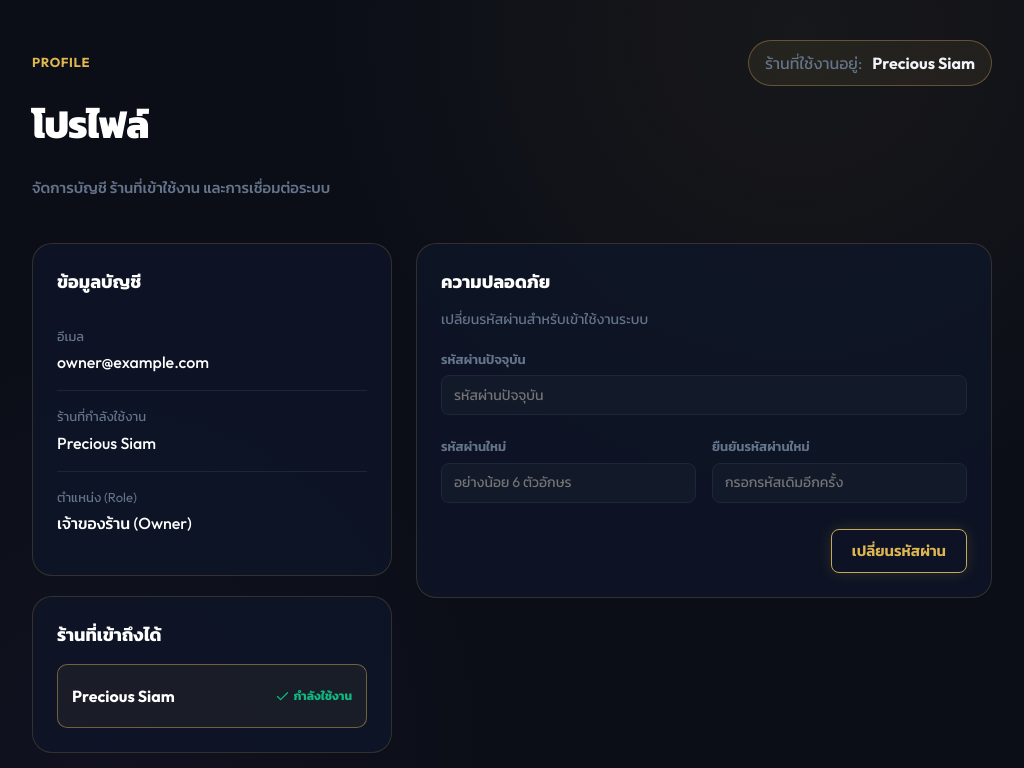
Test: ProfilePage › requires the current password before submitting
Step 1. Type "secret123" into the password field labelled "รหัสผ่านใหม่" → point(568, 483), box [441,463,696,503]
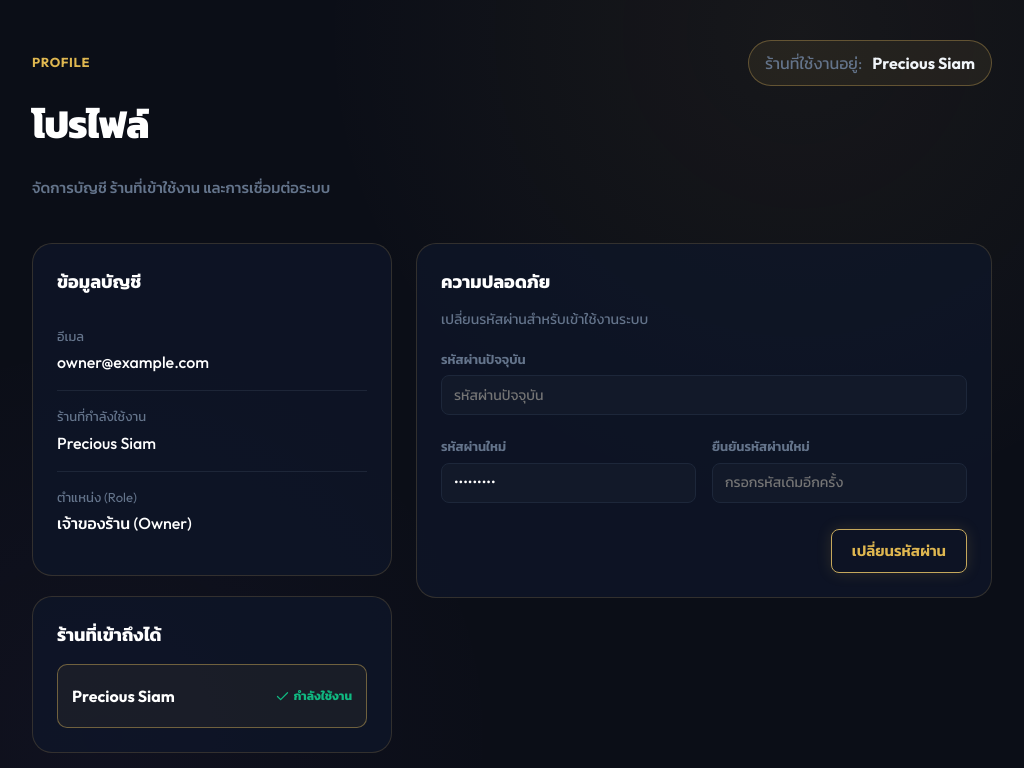
Step 2. Type "secret123" into the password field labelled "ยืนยันรหัสผ่านใหม่" → point(840, 483), box [712,463,967,503]
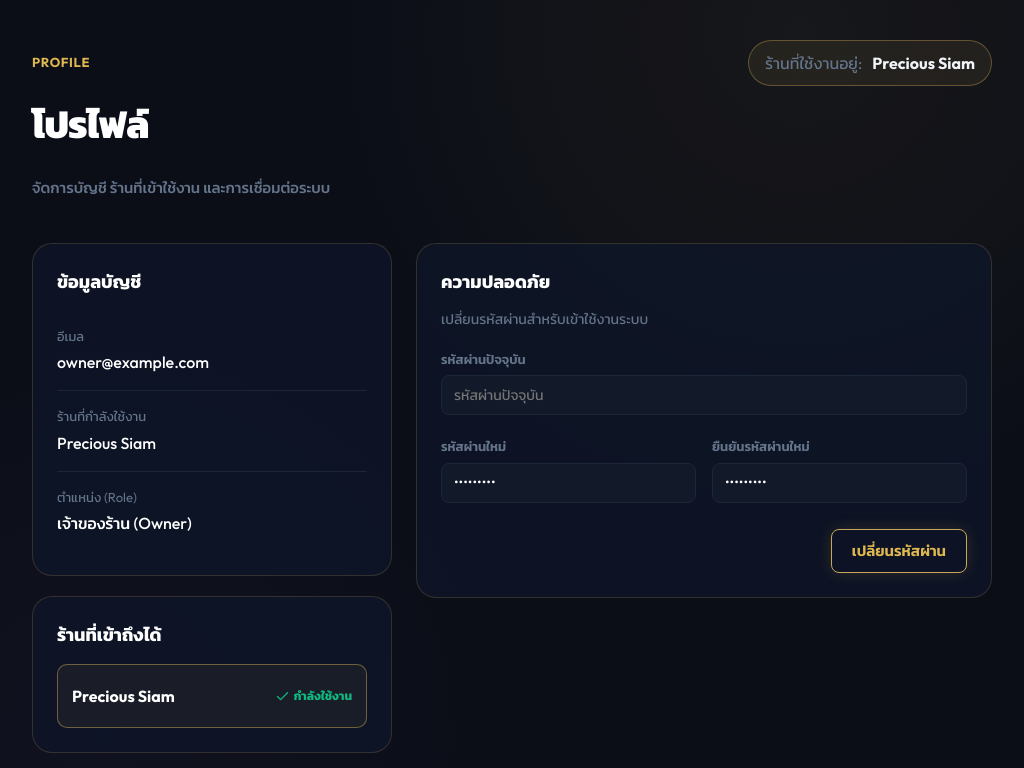
Step 3. Click the button "เปลี่ยนรหัสผ่าน" → point(899, 551), box [831,529,967,573]
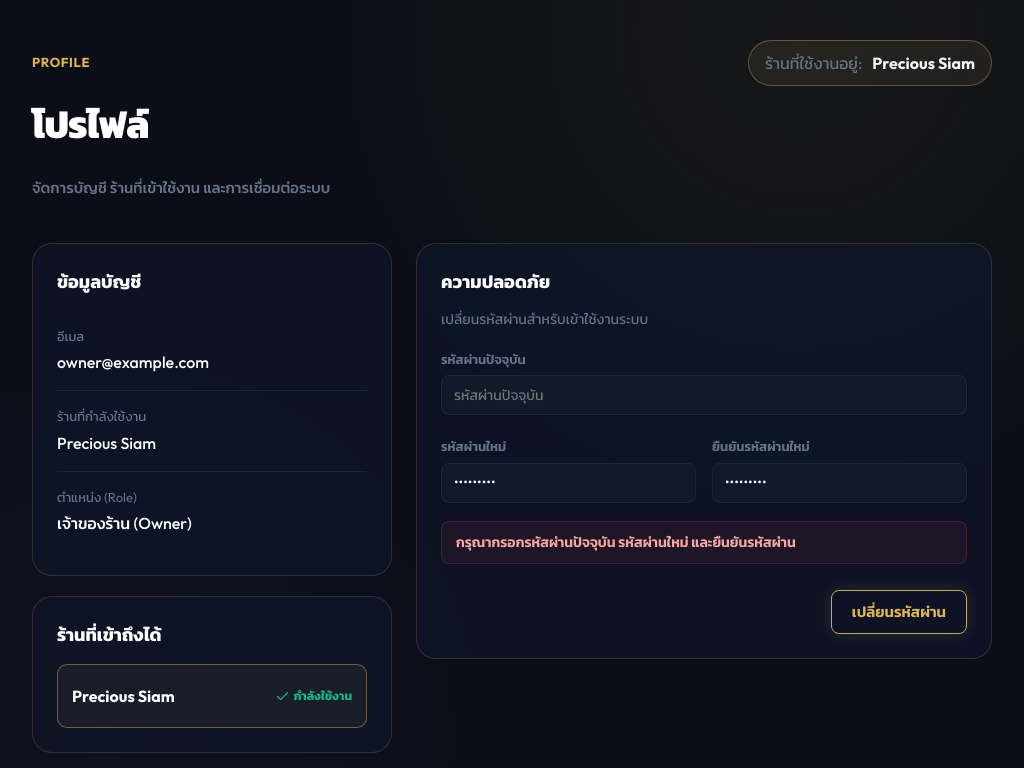
Check: the text "กรุณากรอกรหัสผ่านปัจจุบัน รหัสผ่านใหม่ และยืนยันรหัสผ่าน" is shown, box [441,521,967,564]
